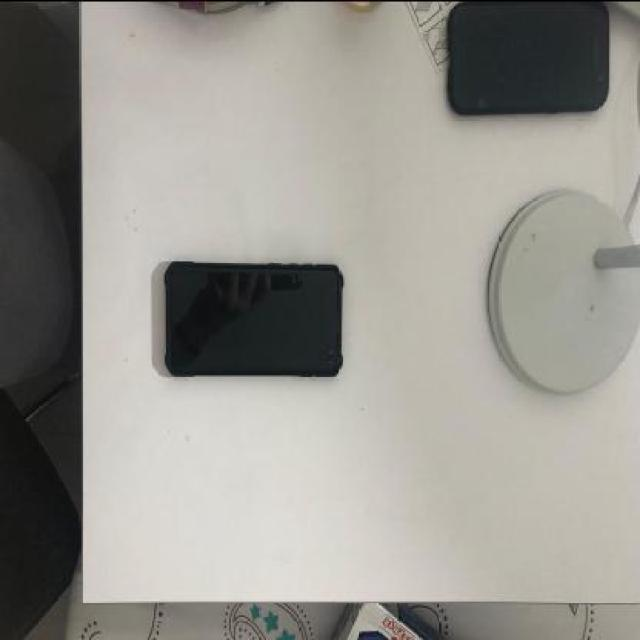mobile: (165, 257, 343, 377), (448, 1, 608, 116)
